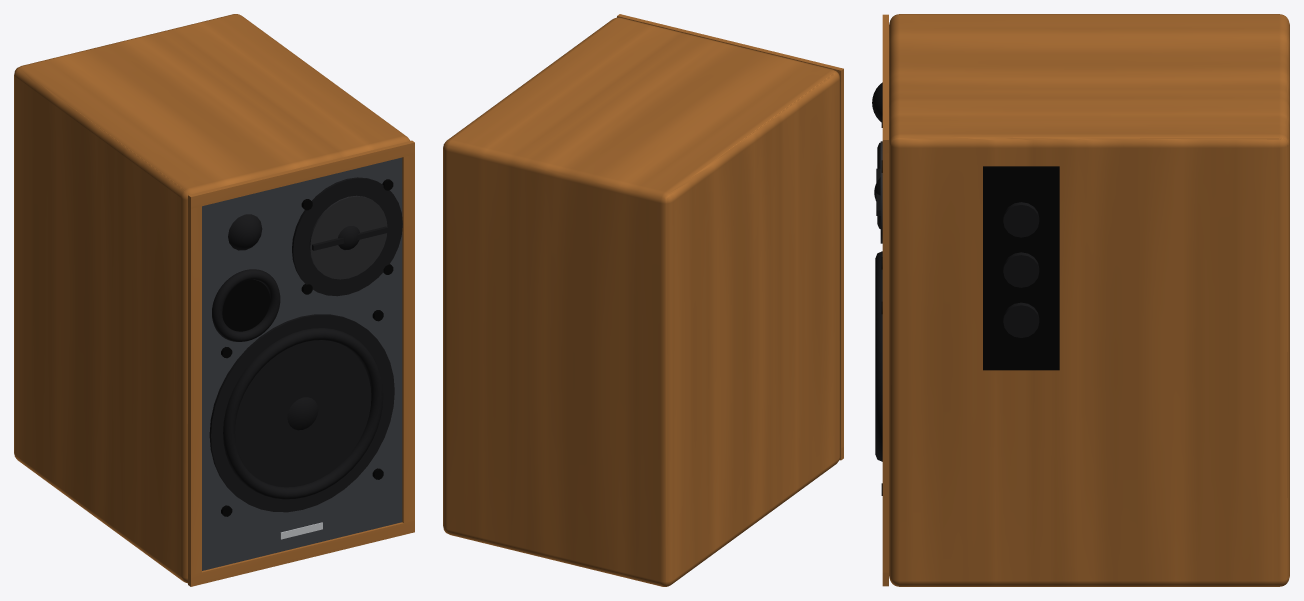
Rendered from altavoz-derecho.glb.
3 renders of one model, left to right at view 1: azimuth 30°, elevation 25°; view 2: azimuth 150°, elevation 25°; view 3: azimuth 270°, elevation 25°, orthographic. The views are drawn at different scales.
Parts seen in each view (by area): view 1: altavoz-derecho; view 2: altavoz-derecho; view 3: altavoz-derecho.
Part boxes in pixels (bbox=[...]): altavoz-derecho: bbox=[14, 14, 414, 586]; altavoz-derecho: bbox=[443, 14, 843, 586]; altavoz-derecho: bbox=[872, 14, 1289, 586].
Size of the model in its own units: 0.146 by 0.234 by 0.196.
6 materials, 1 textured.
